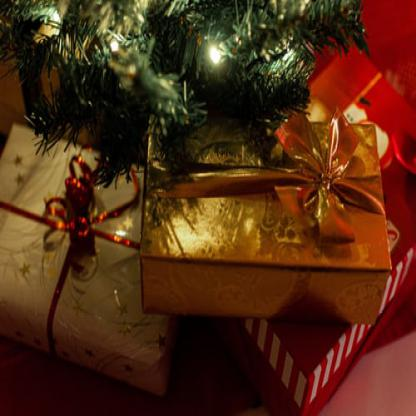present: (0, 104, 182, 390), (262, 74, 415, 407), (127, 118, 390, 304)
